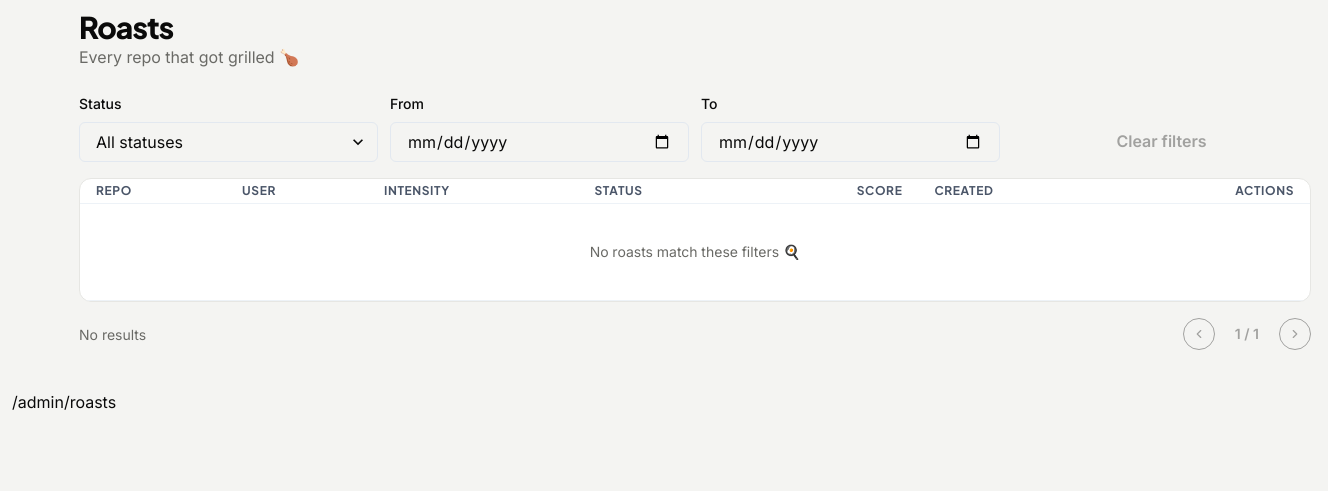
Test: AdminRoastsPage › invalid date range warns and skips fetching
Expected: the text "No roasts match these filters 🍳" is shown, [590,243,800,260]
Type "2026-01-01" into the date field labelled "To".
click(850, 142); type("2026-01-01")  # box [701,122,1000,162]
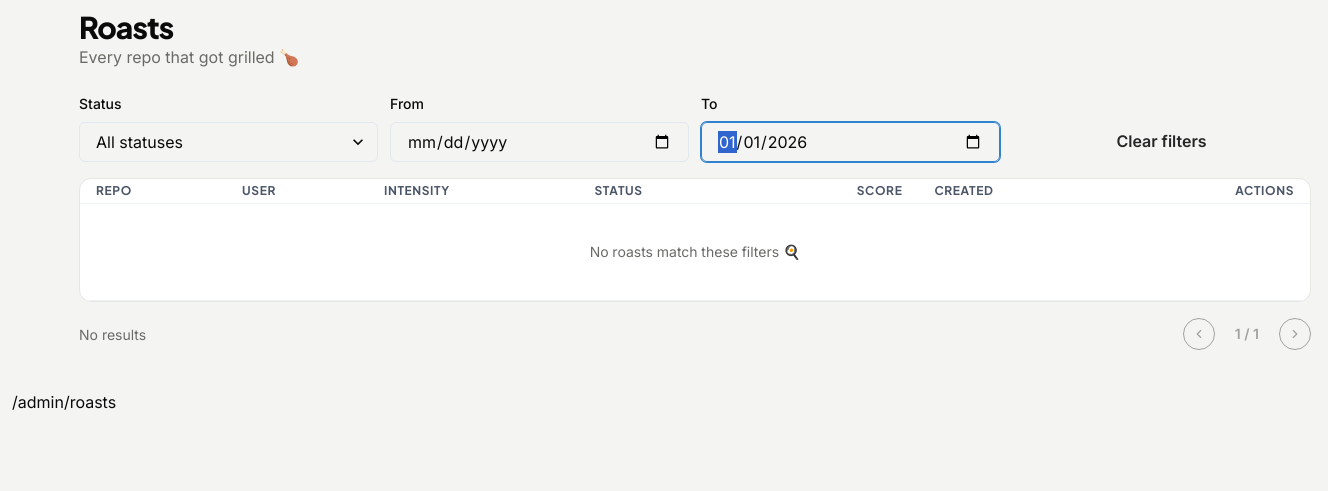
Type "2026-02-01" into the date field labelled "From".
click(540, 142); type("2026-02-01")  # box [390,122,689,162]
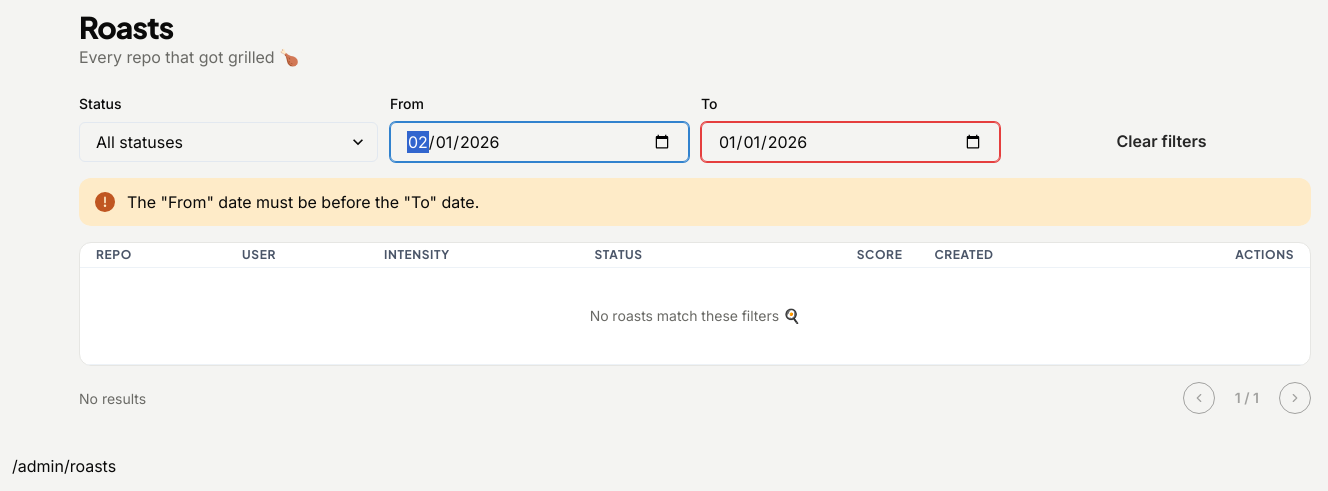
Expected: the text "The \"From\" date must be before the \"To\" date." is shown, [127,190,479,214]
